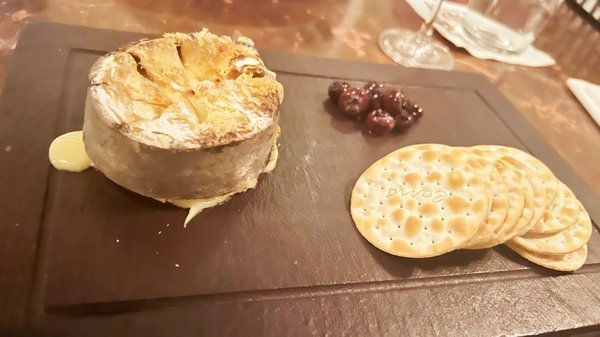soup: (82, 29, 284, 206)
